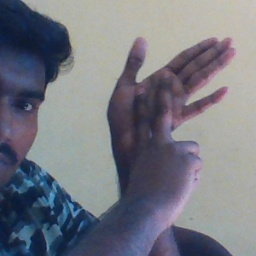N: (98, 33, 236, 194)
